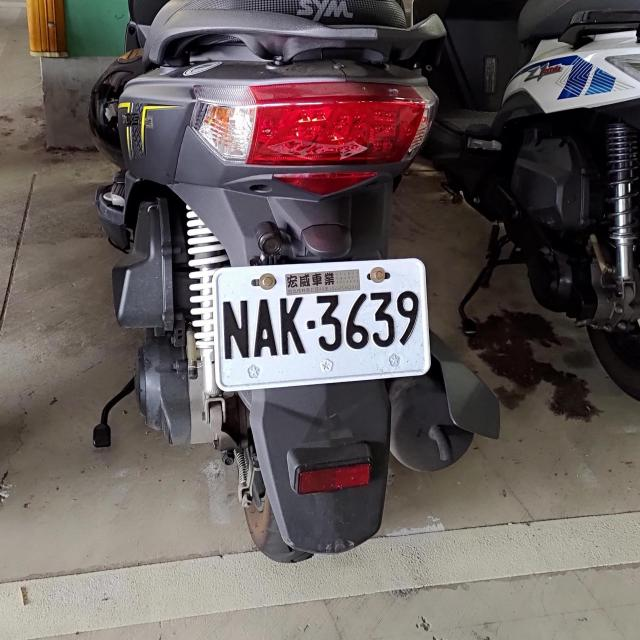W: (208, 259, 428, 388)
